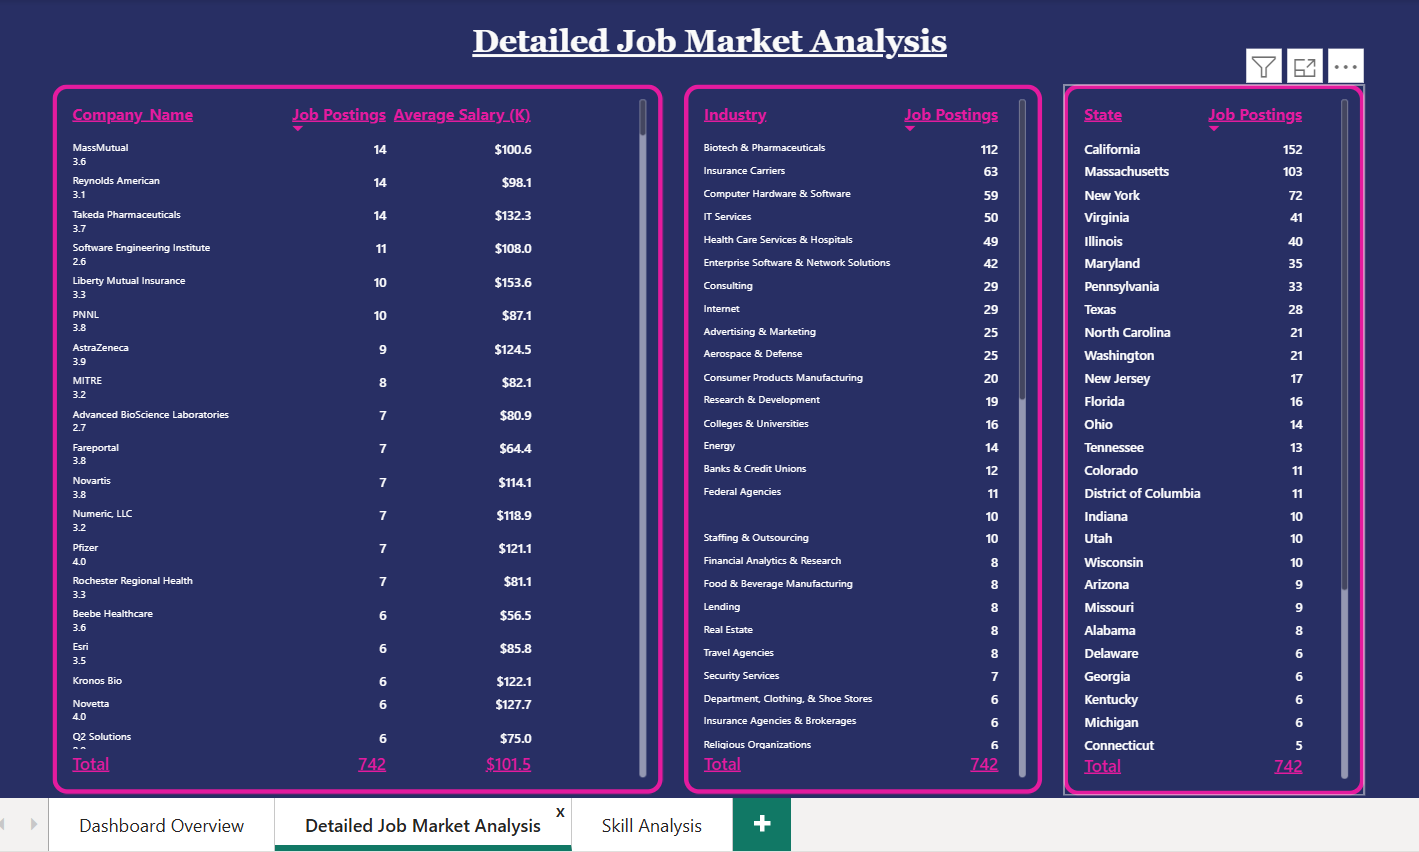

The dashboard page shown, as its layout file describes it:
{"tool":"powerbi","page":{"name":"Detailed Job Market Analysis","canvas":[1920,1080],"ordinal":1},"visuals":[{"type":"tableEx","fields":{"Values":["project_job_market_analysis Market.State","project_job_market_analysis Market.Job_Title"]},"box":[1437.7,115.8,406.6,960.8],"z":0},{"type":"pivotTable","fields":{"Rows":["project_job_market_analysis Market.Company_Name"],"Values":["CountNonNull(project_job_market_analysis Market.ID)","Avg(project_job_market_analysis Market.Avg_SalaryK)"]},"box":[70.4,115.8,824.5,958.5],"z":1000},{"type":"pivotTable","fields":{"Rows":["project_job_market_analysis Market.Industry"],"Values":["CountNonNull(project_job_market_analysis Market.ID)"]},"box":[924.4,115.8,483.8,958.5],"z":2000},{"type":"textbox","box":[626.9,31.8,665.5,65.9],"z":3000}]}

Visuals, with their boxes in screenshot pixels (x1, y1, x2, y2):
tableEx - project_job_market_analysis Market.State x project_job_market_analysis Market.Job_Title: 1041,43,1360,795
pivotTable - project_job_market_analysis Market.Company_Name x CountNonNull(project_job_market_analysis Market.ID): 0,43,616,794
pivotTable - project_job_market_analysis Market.Industry x CountNonNull(project_job_market_analysis Market.ID): 639,43,1018,794
textbox: 406,0,927,28
